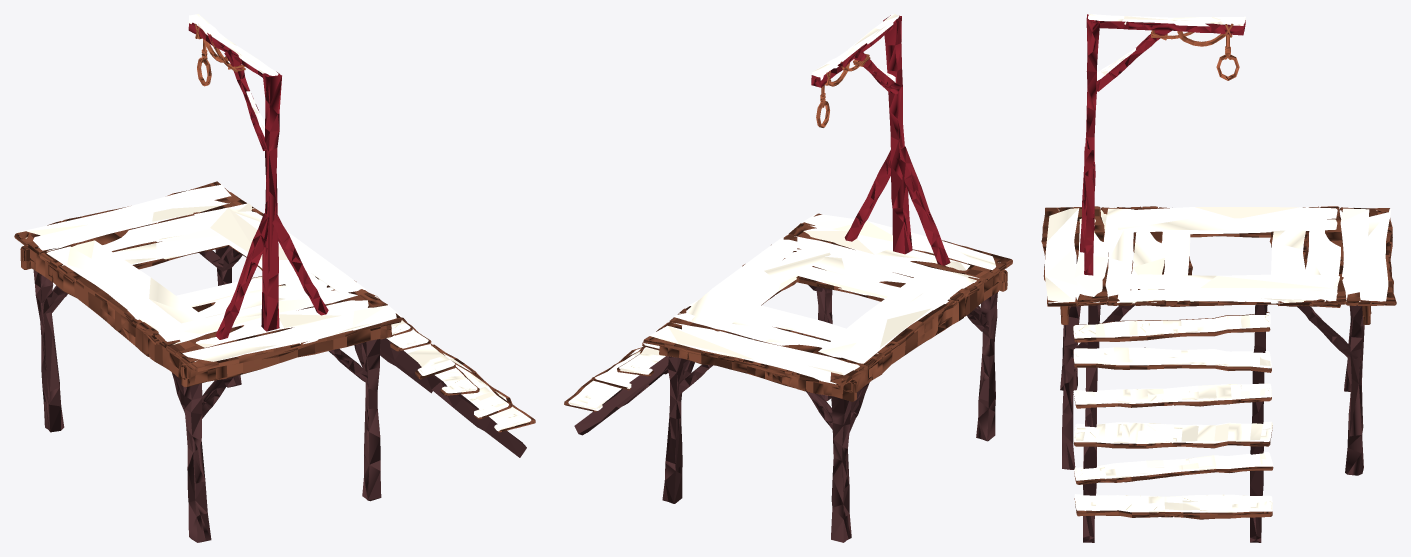
Rendered from GallowAsset.fbx.
3 views of the same model, side by side, from view 1: azimuth 30°, elevation 25°; view 2: azimuth 150°, elevation 25°; view 3: azimuth 270°, elevation 25° (orthographic). The views are drawn at different scales.
Parts seen in each view (by area): view 1: Gallow; view 2: Gallow; view 3: Gallow.
Boxes of the visible parts, left/top/right/bottom form: Gallow: left=14, top=14, right=535, bottom=542; Gallow: left=564, top=14, right=1012, bottom=542; Gallow: left=1041, top=14, right=1396, bottom=542.
Size of the model in its own units: 1186 by 1365 by 1057.
